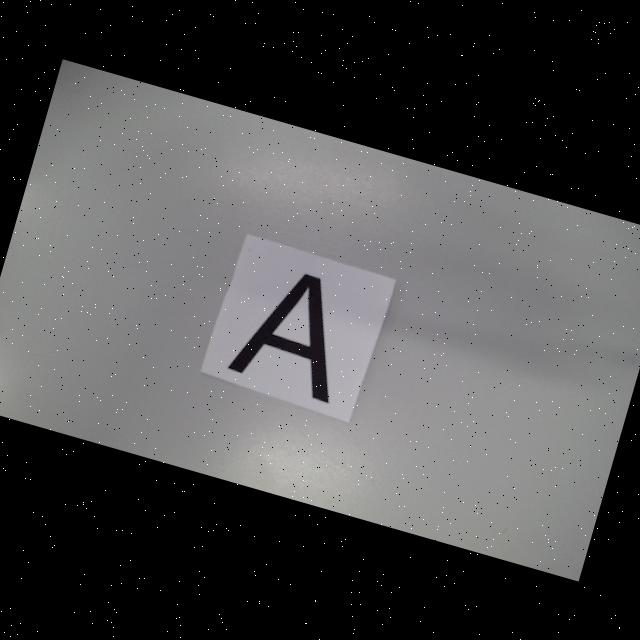FAKE: (224, 260, 361, 404)
